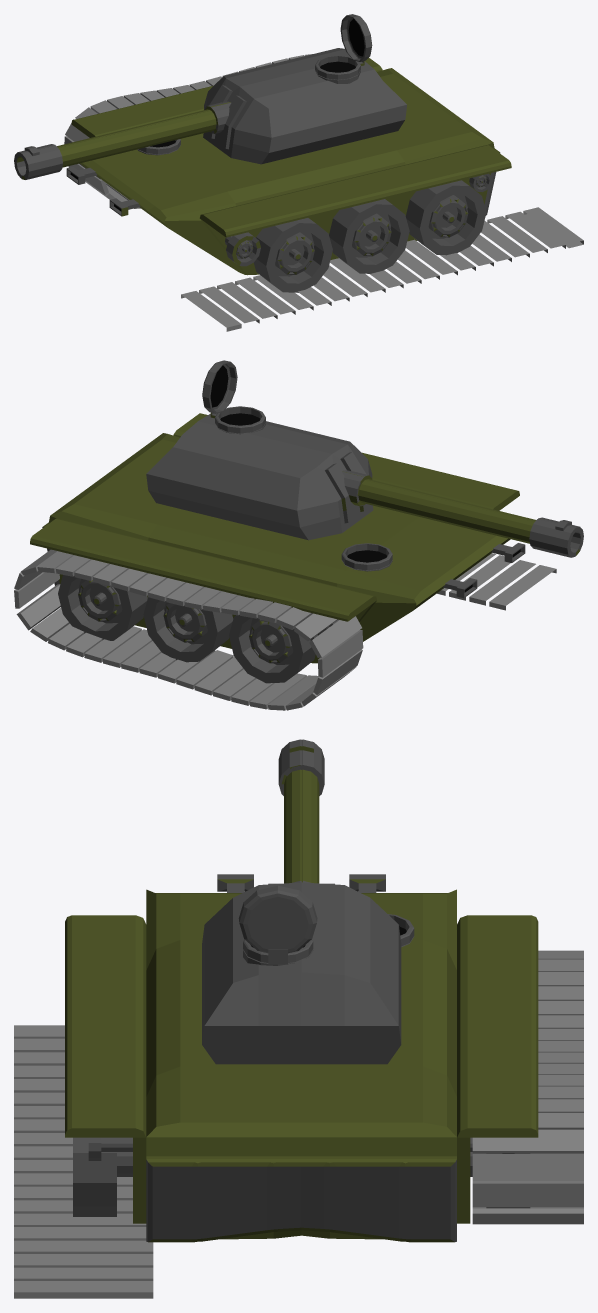
Rendered from DeadTank.fbx.
3 views of the same model, one above another, from view 1: azimuth 30°, elevation 25°; view 2: azimuth 150°, elevation 25°; view 3: azimuth 270°, elevation 25° (orthographic). The views are drawn at different scales.
Parts seen in each view (by area): view 1: Cube, Cube.001, Cube.003, Cube.004; view 2: Cube, Cube.001, Cube.004, Cube.003; view 3: Cube, Cube.001, Cube.003, Cube.004.
Part boxes in pixels (x1,y1,x2,y2): Cube: (66, 58, 511, 292); Cube.001: (14, 14, 406, 179); Cube.003: (181, 207, 583, 331); Cube.004: (64, 54, 312, 208); Cube: (30, 413, 525, 683); Cube.001: (146, 360, 583, 557); Cube.004: (14, 549, 363, 710); Cube.003: (437, 553, 556, 610); Cube: (65, 874, 538, 1242); Cube.001: (202, 739, 401, 1064); Cube.003: (14, 1025, 153, 1298); Cube.004: (472, 950, 583, 1224).
Bounding box in the file's own units: 911 × 379 × 627.
